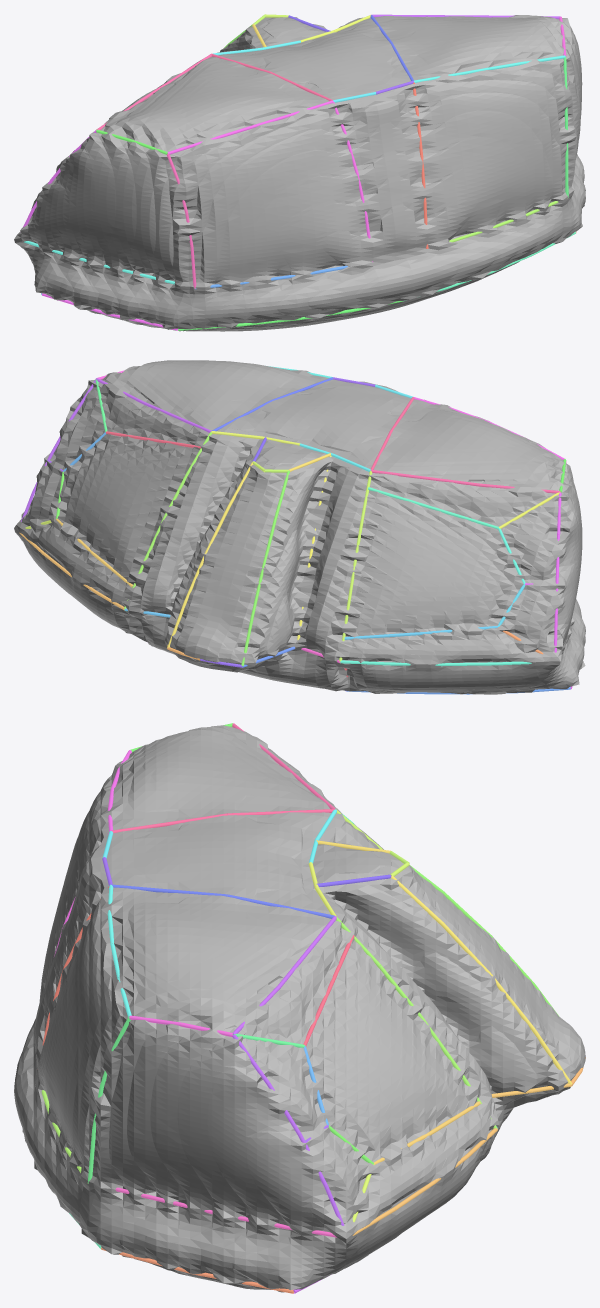
File: ils_speaker.gltf
3 views of the same model, one above another, from view 1: azimuth 30°, elevation 25°; view 2: azimuth 150°, elevation 25°; view 3: azimuth 270°, elevation 25° (orthographic). The views are drawn at different scales.
Bounding box in the file's own units: 0.822 × 0.338 × 0.5434.
